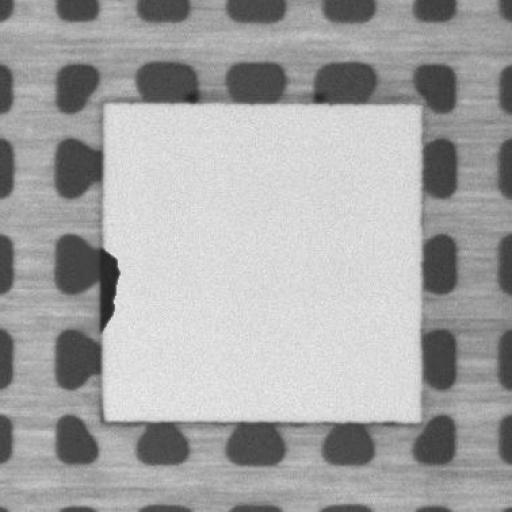DIE_BROKEN: (94, 245, 122, 332)
